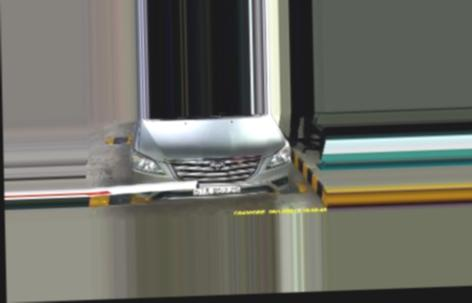License_Plate: (192, 184, 242, 198)
